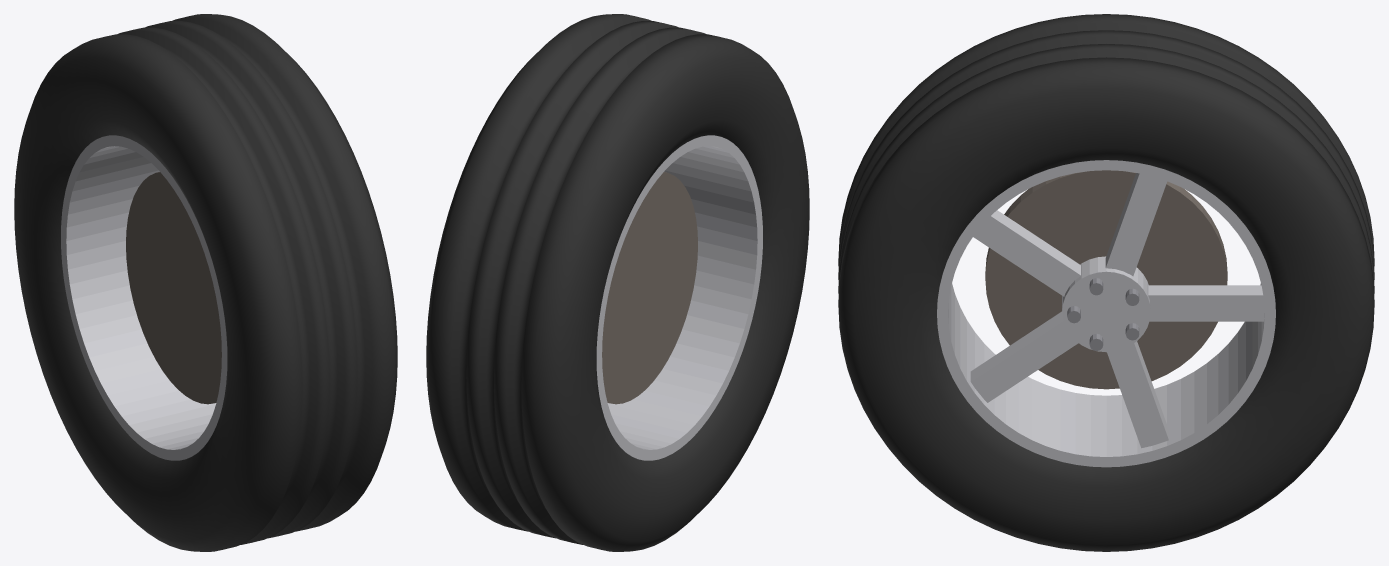
The model's file is Rueda.obj.
3 views of the same model, side by side, from view 1: azimuth 30°, elevation 25°; view 2: azimuth 150°, elevation 25°; view 3: azimuth 270°, elevation 25° (orthographic).
Parts seen in each view (by area): view 1: Llanta, Rin_barril, Freno_disco; view 2: Llanta, Rin_barril, Freno_disco; view 3: Llanta, Rin_barril, Freno_disco, Cubo, Rayo_0, Rayo_3, Rayo_2, Rayo_4, Rayo_1.
Boxes of the visible parts, bbox=[...] form: Llanta: bbox=[14, 14, 397, 551]; Rin_barril: bbox=[61, 135, 227, 460]; Freno_disco: bbox=[126, 172, 221, 404]; Llanta: bbox=[426, 14, 809, 551]; Rin_barril: bbox=[596, 135, 762, 460]; Freno_disco: bbox=[602, 172, 697, 404]; Llanta: bbox=[838, 14, 1374, 551]; Rin_barril: bbox=[937, 160, 1275, 467]; Freno_disco: bbox=[985, 170, 1227, 389]; Cubo: bbox=[1062, 256, 1150, 352]; Rayo_0: bbox=[1148, 285, 1264, 321]; Rayo_3: bbox=[970, 311, 1078, 402]; Rayo_2: bbox=[973, 210, 1080, 296]; Rayo_4: bbox=[1107, 341, 1168, 448]; Rayo_1: bbox=[1105, 173, 1167, 276].
Size of the model in its own units: 0.21 by 0.664 by 0.664.
Materials: 4 (4 with a texture image).
